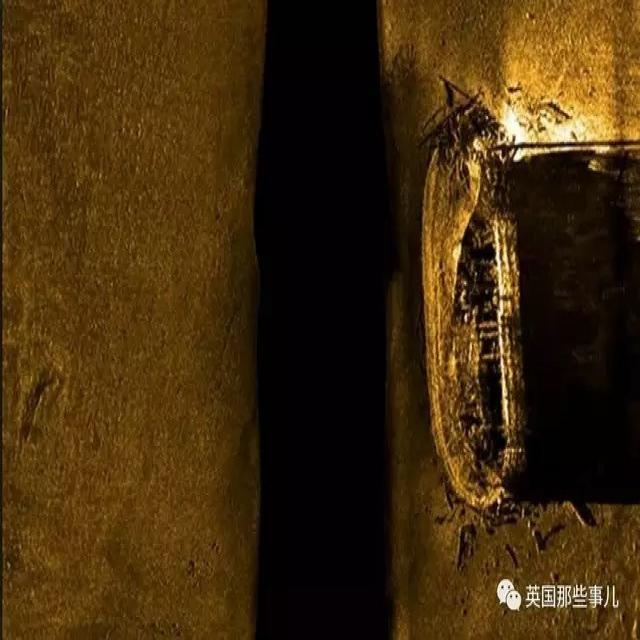shipwreck: (416, 126, 528, 516)
